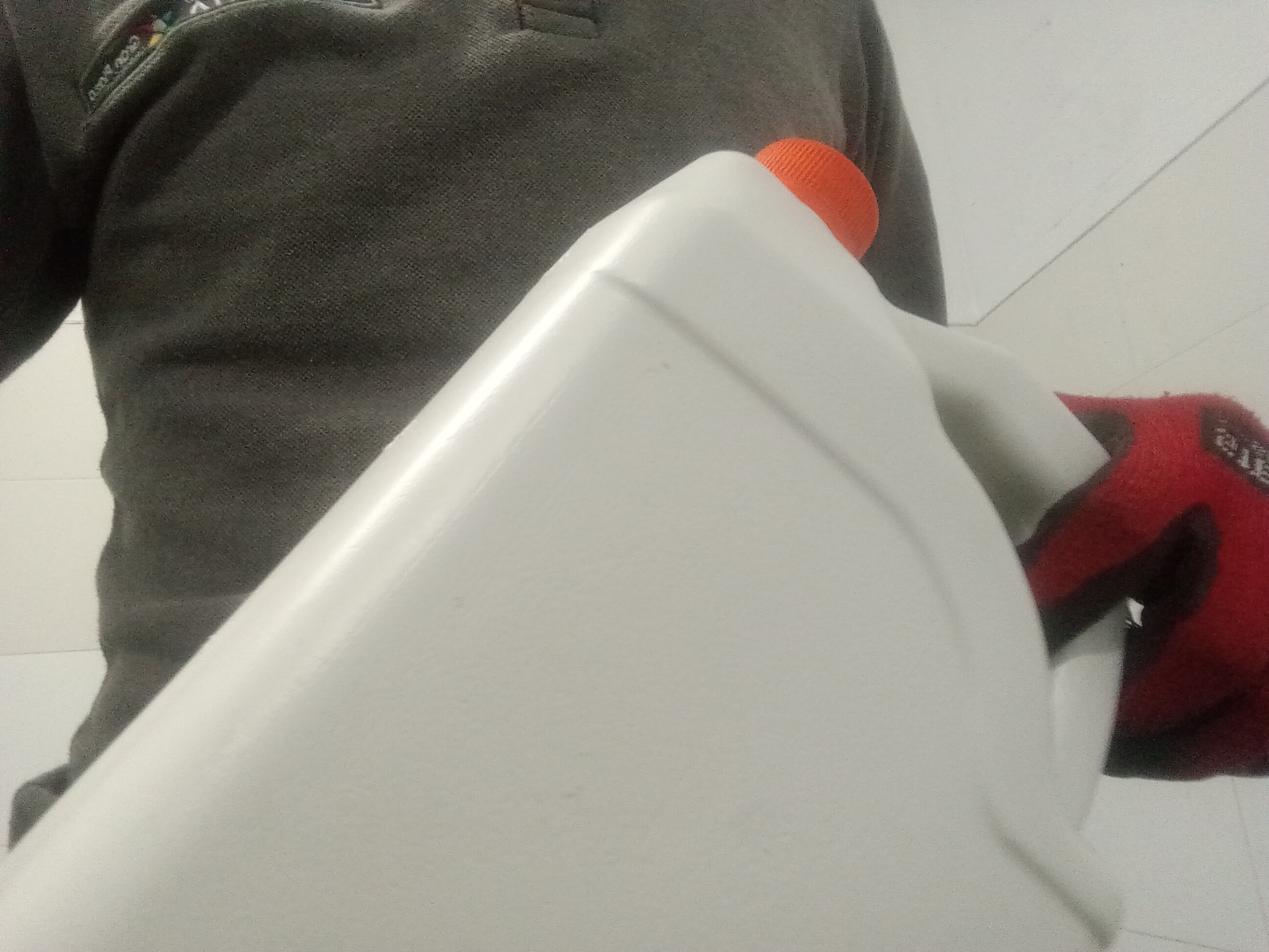Plastico: (0, 138, 1131, 952)
